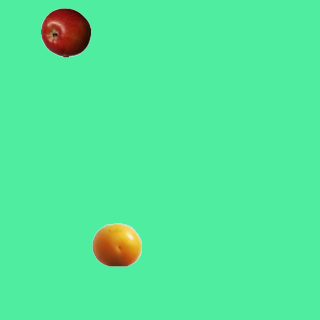Apple Braeburn: (40, 7, 90, 57)
Cherry Wax Yellow: (91, 219, 141, 269)
